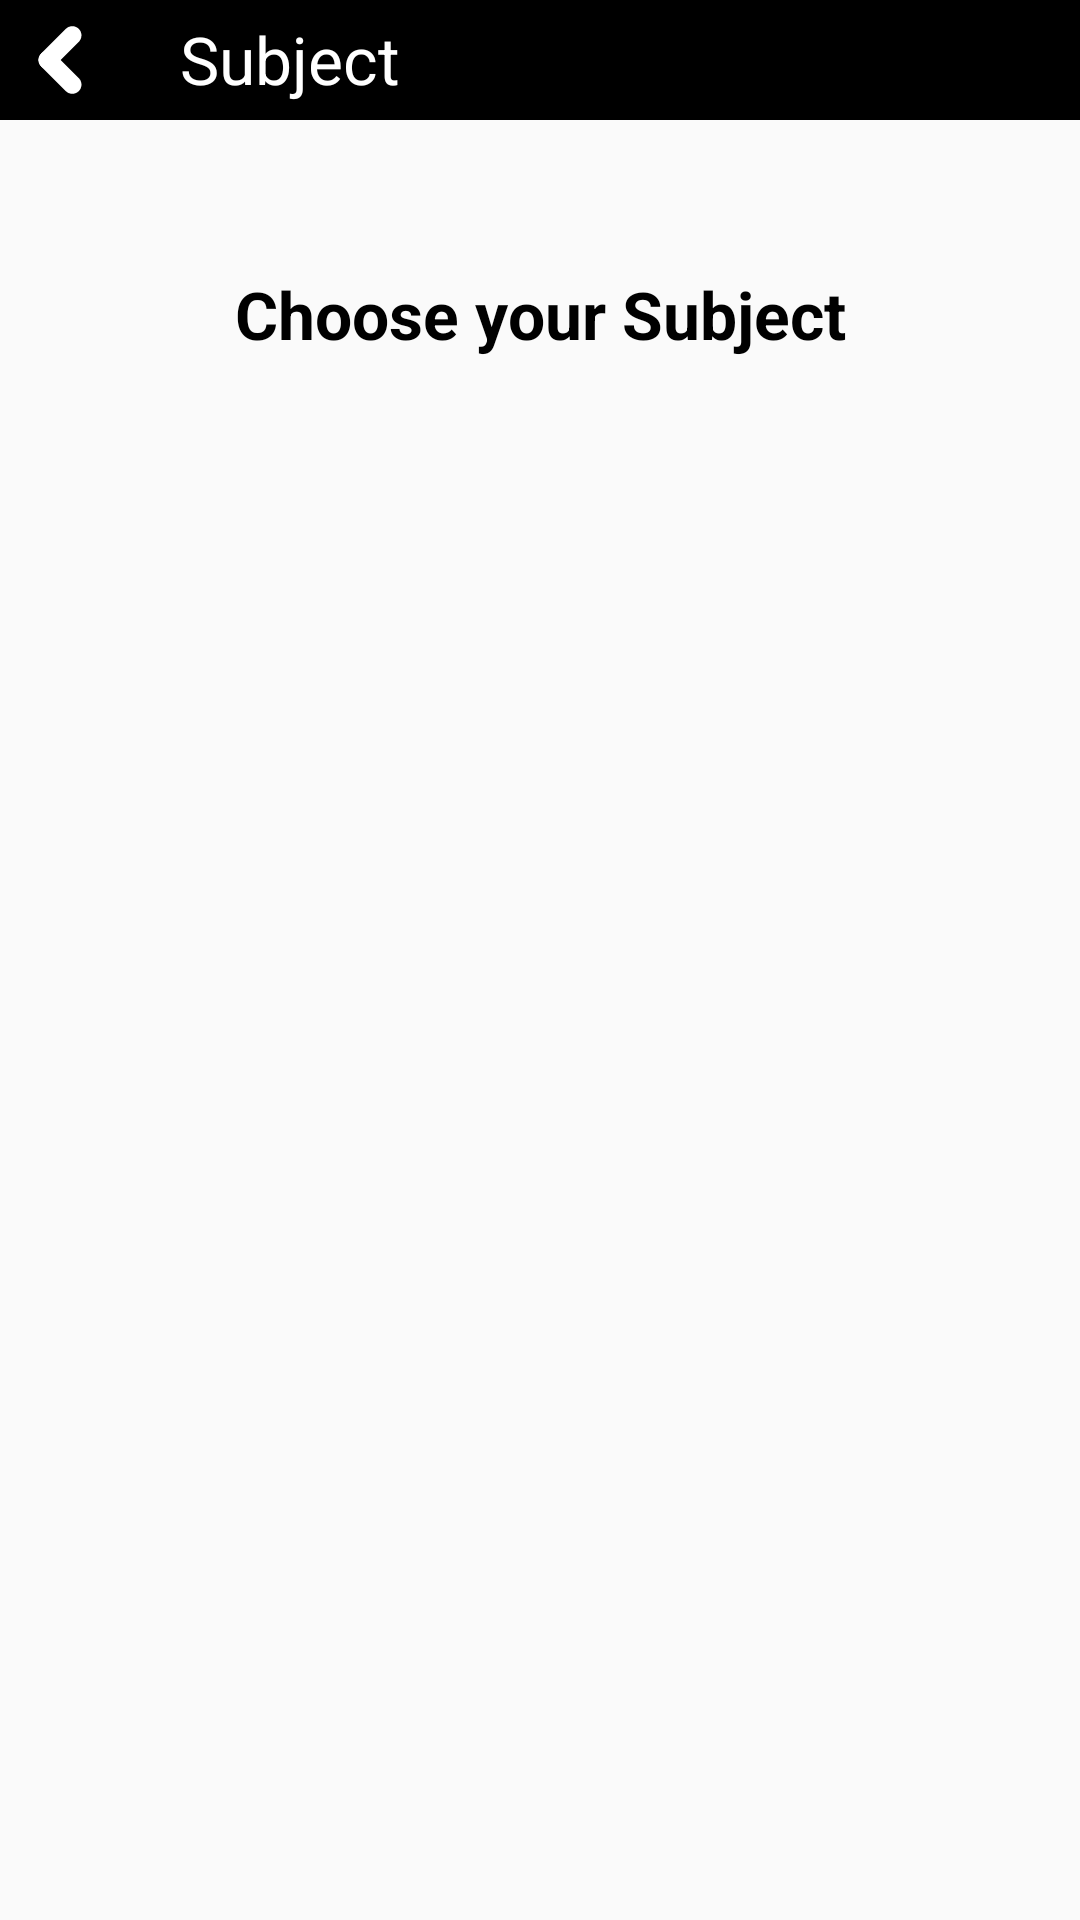

Icon bounding boxes for this 1080×1920 phone screenshot, format Rect(x1, y1, x2, y2):
back: Rect(38, 26, 82, 94)
